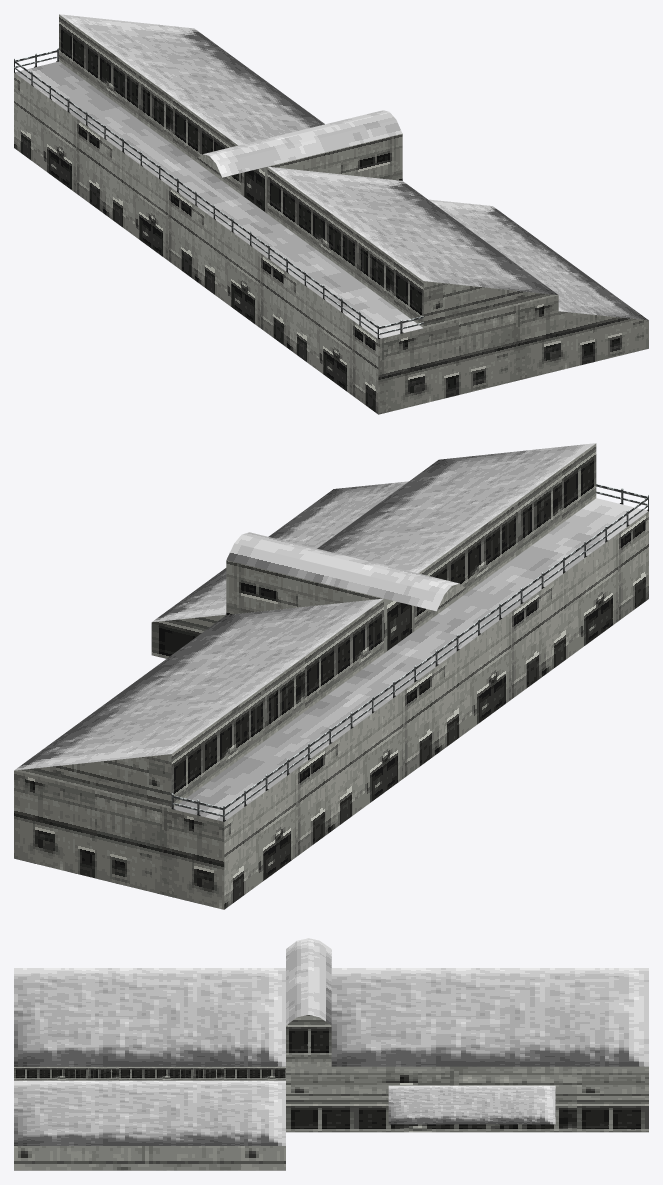
The model's file is uvmd-0190.glb.
3 renders of one model, top to bottom at view 1: azimuth 30°, elevation 25°; view 2: azimuth 150°, elevation 25°; view 3: azimuth 270°, elevation 25°, orthographic. The views are drawn at different scales.
Parts seen in each view (by area): view 1: uvmd-0190; view 2: uvmd-0190; view 3: uvmd-0190.
Part boxes in pixels (box(x1,y1,x2,y2)): uvmd-0190: box(14, 14, 648, 414); uvmd-0190: box(14, 443, 648, 909); uvmd-0190: box(14, 938, 648, 1170).
Bounding box in the file's own units: 300 × 143 × 700.
3 materials, 3 textured.
